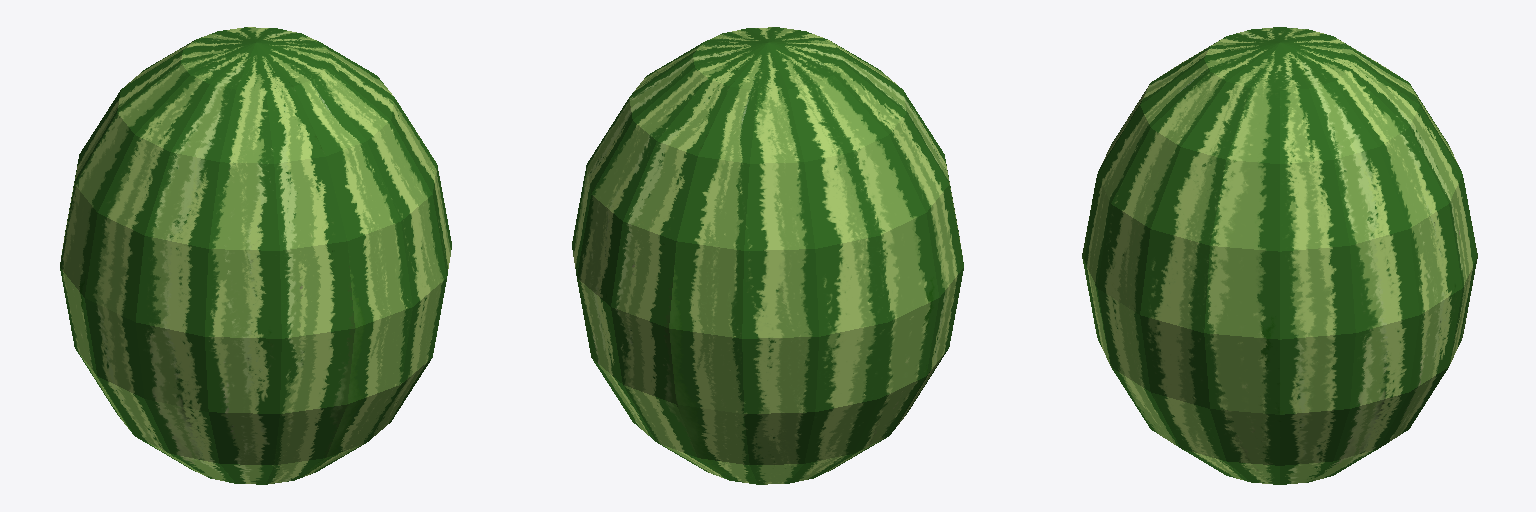
3 views of the same model, side by side, from view 1: azimuth 30°, elevation 25°; view 2: azimuth 150°, elevation 25°; view 3: azimuth 270°, elevation 25° (orthographic).
Parts seen in each view (by area): view 1: Sphere; view 2: Sphere; view 3: Sphere.
Part boxes in pixels (x1,y1,x2,y2): Sphere: (60,27,451,484); Sphere: (572,27,963,484); Sphere: (1082,27,1477,484).
Size of the model in its own units: 2 by 2.38 by 2.
Materials: 1 (1 with a texture image).